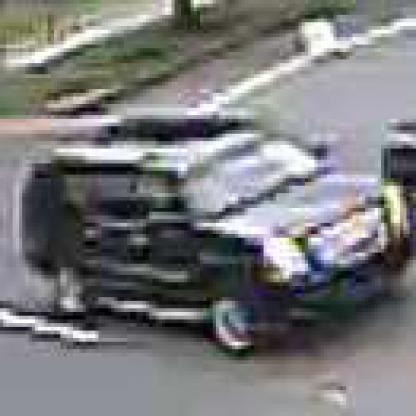car: (23, 101, 411, 350)
